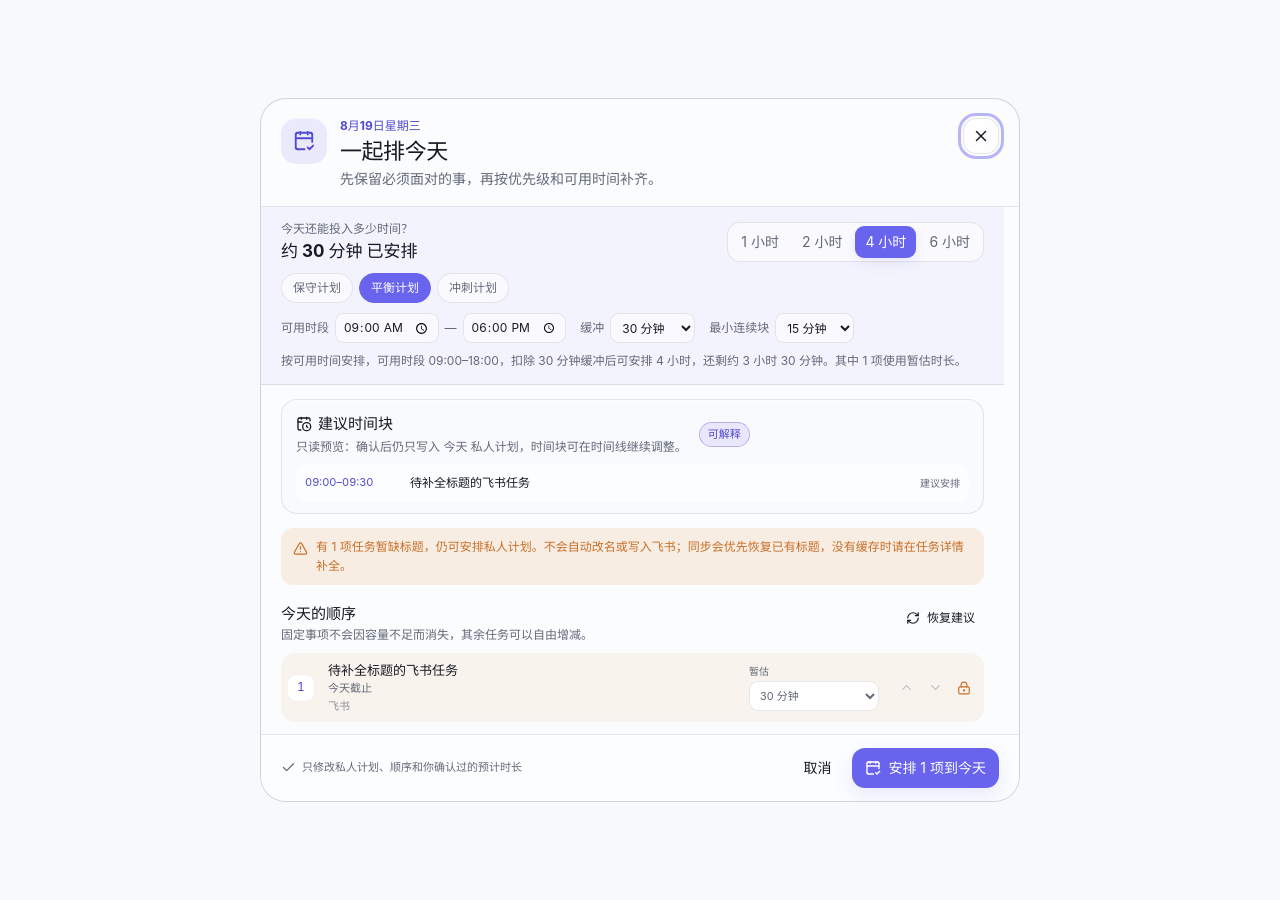
Scenario: DailyPlanSheet › shows readable placeholders for incomplete imported titles without changing the reviewed task payload
The image size is (1280, 900).
Check: the element showing "有 1 项任务暂缺标题，仍可安排私人计划。不会自动改名或写入飞书；同步会优先恢复已有标题，没有缓存时请在任务详情补全。" is shown, box top-left (281, 528), bottom-right (984, 585)
Check: the text "待补全标题的飞书任务" next to "建议安排" is shown, box top-left (410, 475), bottom-right (530, 490)
What coordinates should you click on to do the following:
click the button "安排 1 项到今天"
I would click on:
 (926, 768)
Its box is top-left (852, 748), bottom-right (999, 788).
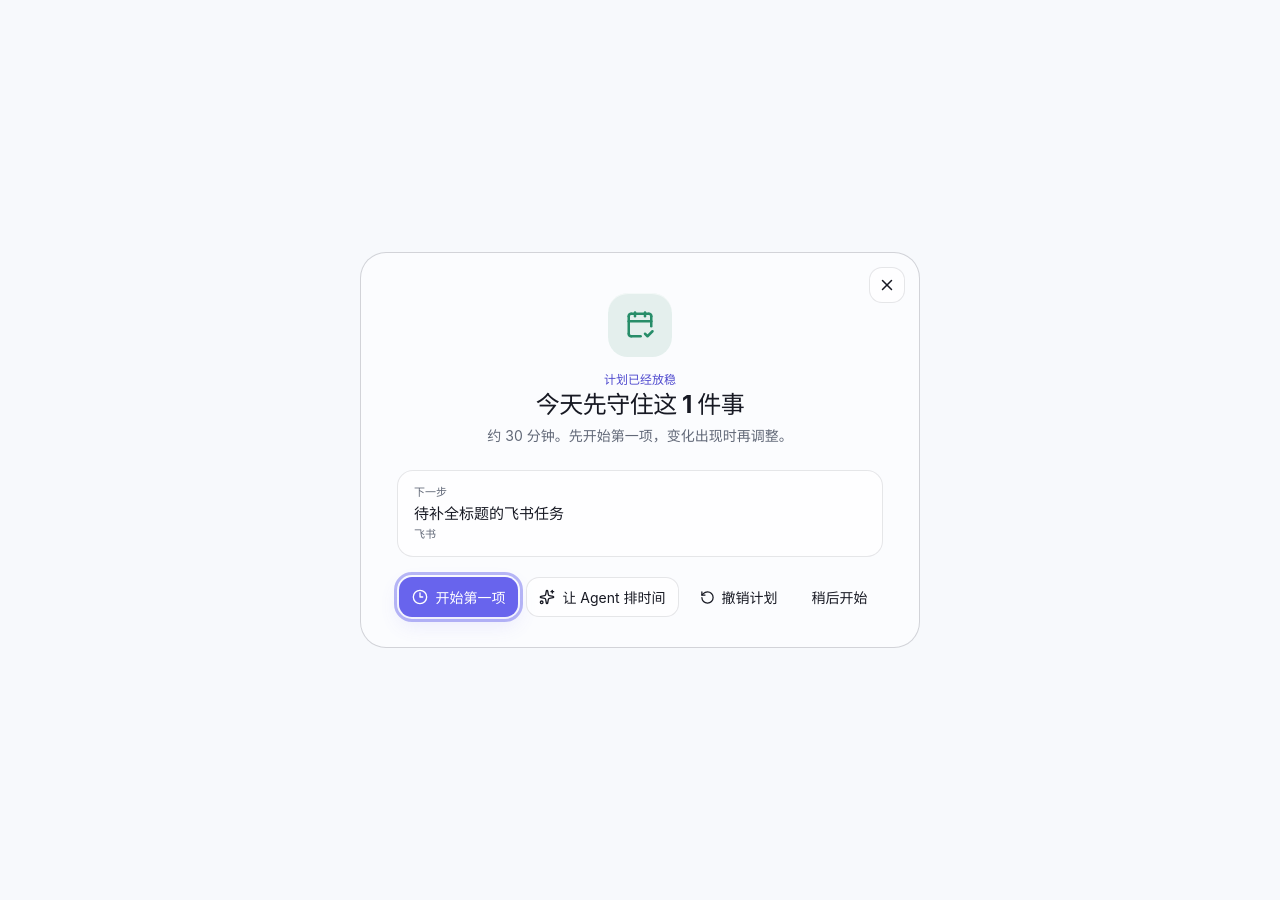
Check: the heading "今天先守住这 1 件事" is shown, box top-left (536, 390), bottom-right (744, 419)
